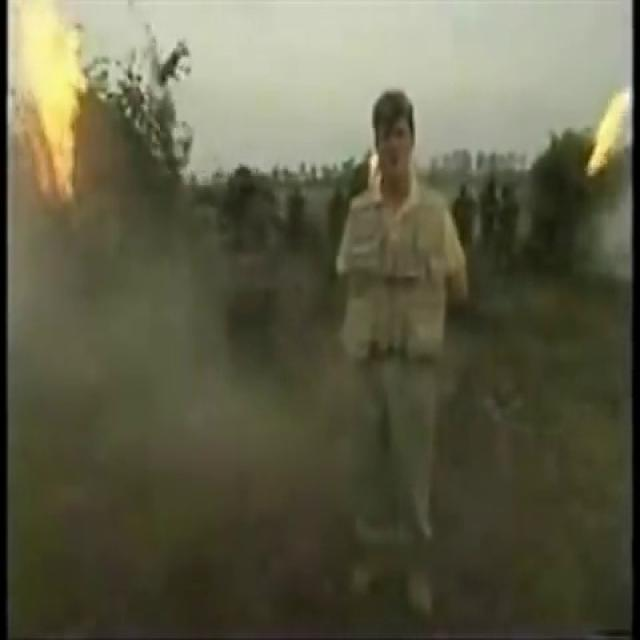Fire: (10, 0, 90, 190)
Smoke: (8, 9, 354, 635)
